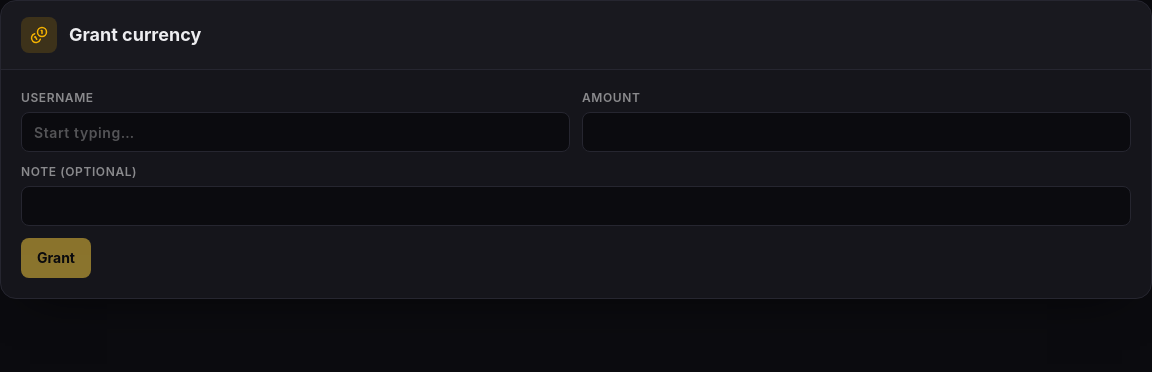
Test: GrantPanel › translates player_not_found
In the dropdown labelled "Username": x=296, y=132 [21,112,570,152], type "xa"
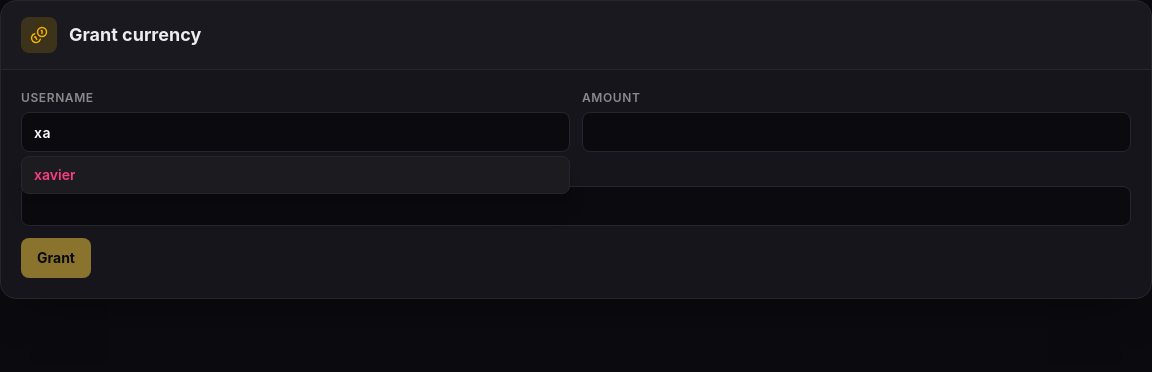
Click the option "xavier": x=55, y=174 [22,157,569,193]
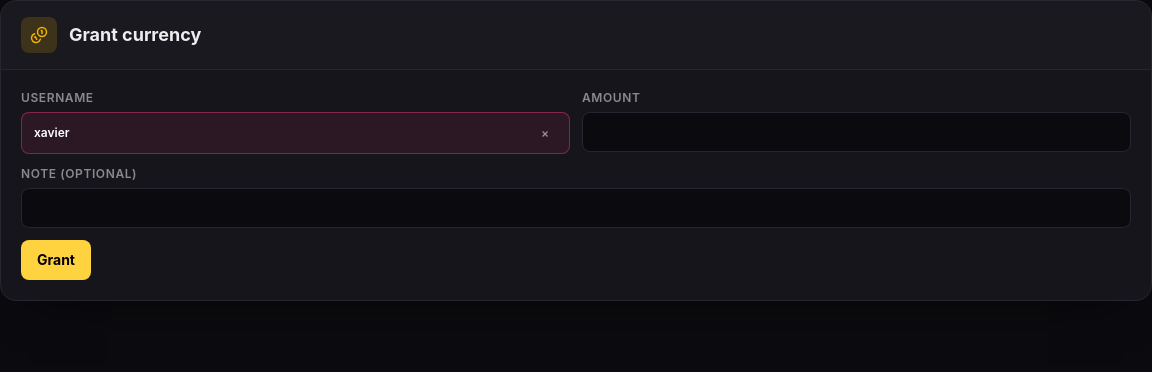
In the number field labelled "Amount": x=856, y=132 [582,112,1131,152], type "5"
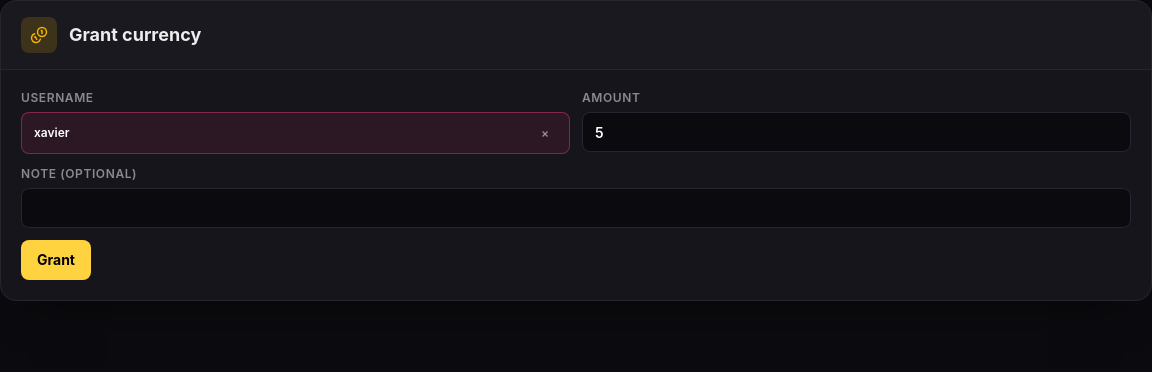
Click the button "Grant": x=56, y=260 [21,240,91,280]
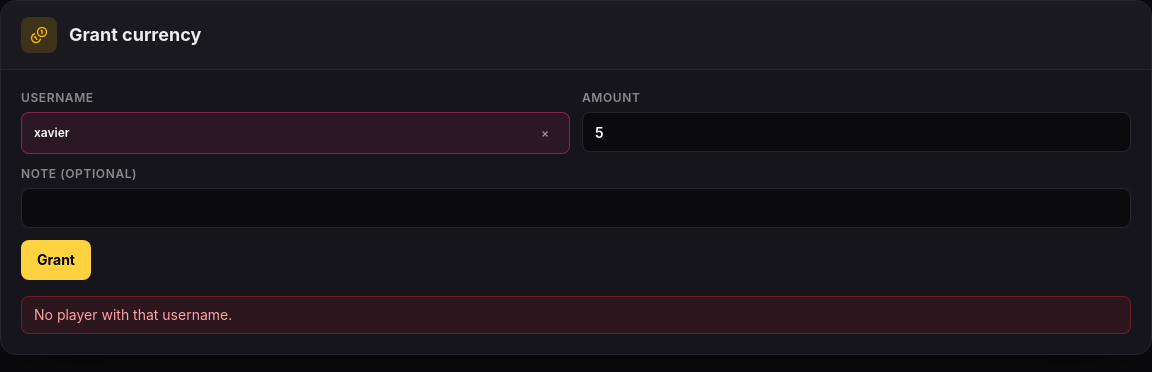
Check: the text "No player with that username." is shown, box [21,296,1131,334]
